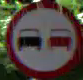No overtake: (3, 1, 81, 79)
